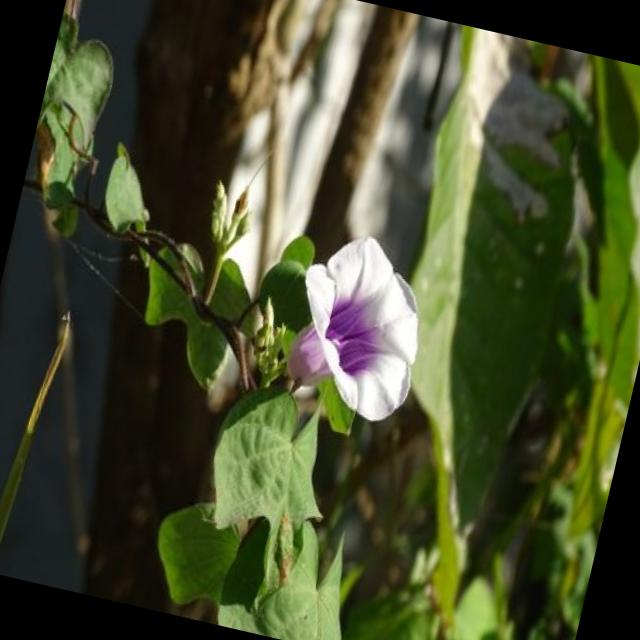ipomoea: (270, 220, 446, 434)
